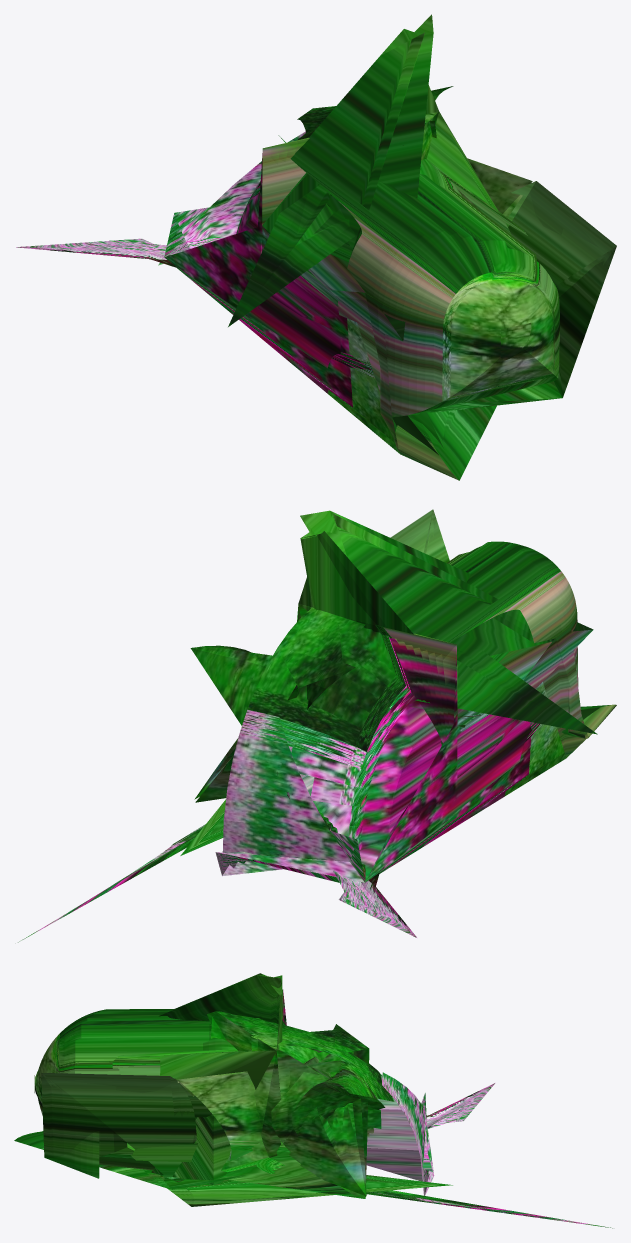
Rendered from Flor1.gltf.
The picture shows the model from 3 angles, top to bottom: view 1: azimuth 30°, elevation 25°; view 2: azimuth 150°, elevation 25°; view 3: azimuth 270°, elevation 25°; orthographic projection. The views are drawn at different scales.
Parts seen in each view (by area): view 1: Cube; view 2: Cube; view 3: Cube.
Boxes of the visible parts, x1=… form: Cube: x1=16, y1=14, x2=616, y2=480; Cube: x1=18, y1=509, x2=616, y2=942; Cube: x1=14, y1=973, x2=612, y2=1228.
Size of the model in its own units: 4.01 by 3.44 by 8.26.
1 material, 1 textured.
